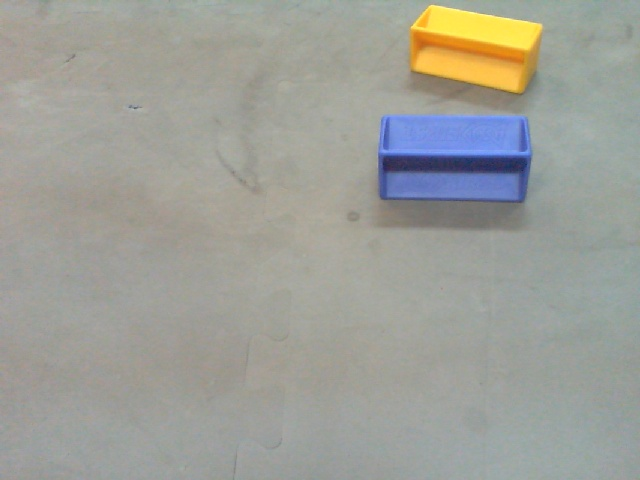BlueSample: (377, 113, 531, 205)
YellowSample: (406, 2, 540, 97)
